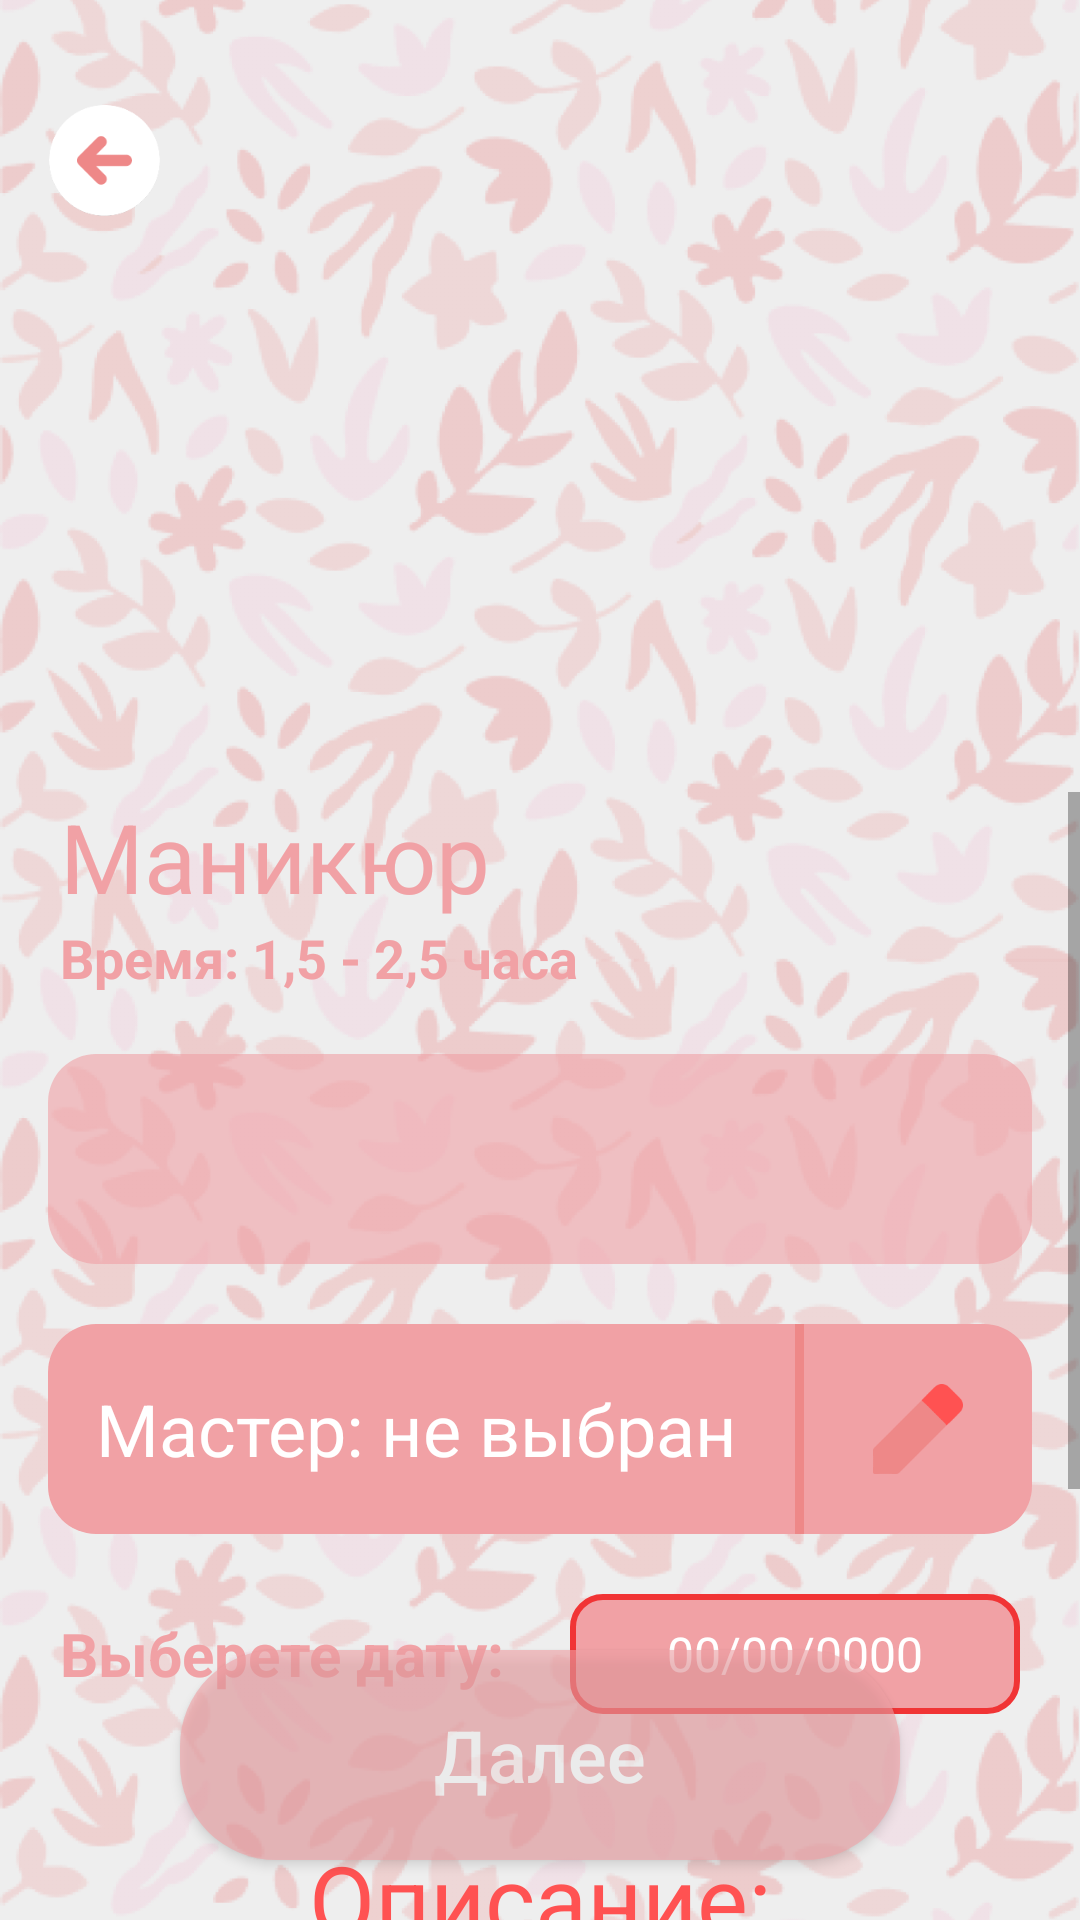

Where to tap for icons on this 1080 x 1920 app screen, as point (x, y):
back arrow: point (104, 160)
pencil: point (918, 1429)
